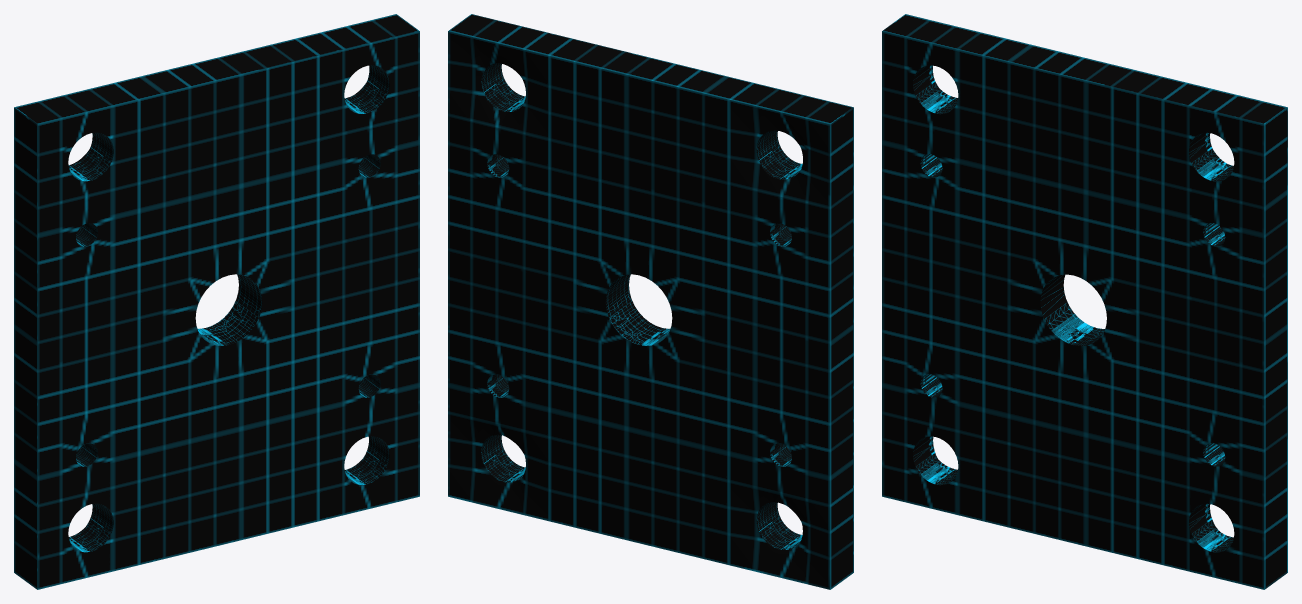
File: Mold1-Ejector plate-M.glb
3 renders of one model, left to right at view 1: azimuth 30°, elevation 25°; view 2: azimuth 150°, elevation 25°; view 3: azimuth 330°, elevation 25°, orthographic.
Visible parts, largest first — view 1: porte ejecteur; view 2: porte ejecteur; view 3: porte ejecteur.
Boxes of the visible parts, x1,y1,x2,y2 form: porte ejecteur: [14, 14, 419, 589]; porte ejecteur: [448, 14, 853, 589]; porte ejecteur: [882, 14, 1287, 589].
Bounding box in the file's own units: 4.45 × 5.18 × 0.471.
Materials: 1 (1 with a texture image).
